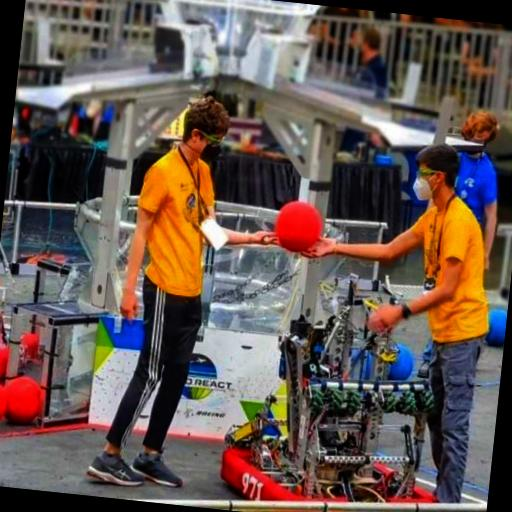robot: (215, 262, 464, 512)
